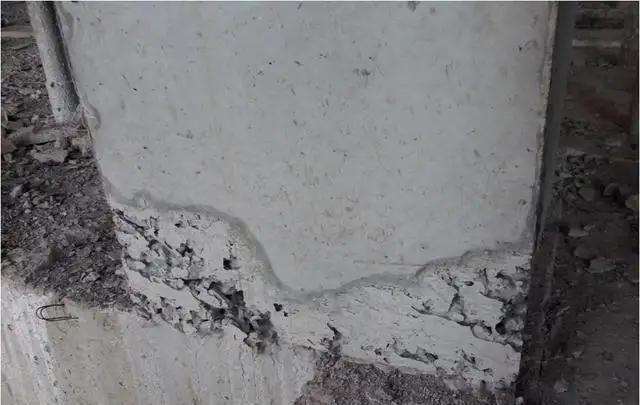Spalling: (100, 172, 535, 396)
